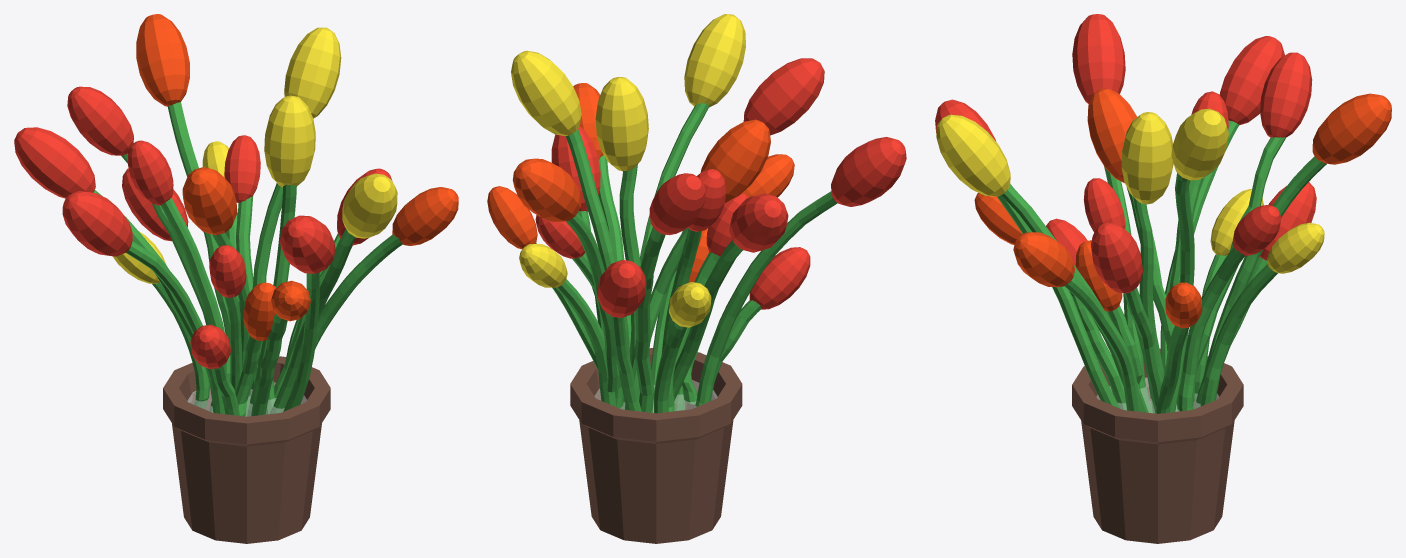
3 views of the same model, side by side, from view 1: azimuth 30°, elevation 25°; view 2: azimuth 150°, elevation 25°; view 3: azimuth 270°, elevation 25° (orthographic). The views are drawn at different scales.
Parts seen in each view (by area): view 1: group434744387; view 2: group434744387; view 3: group434744387.
Part boxes in pixels (left/top/right/bottom): group434744387: left=14, top=14, right=458, bottom=543; group434744387: left=487, top=14, right=906, bottom=543; group434744387: left=935, top=14, right=1391, bottom=543.
Bounding box in the file's own units: 1.43 × 1.7 × 1.53.
